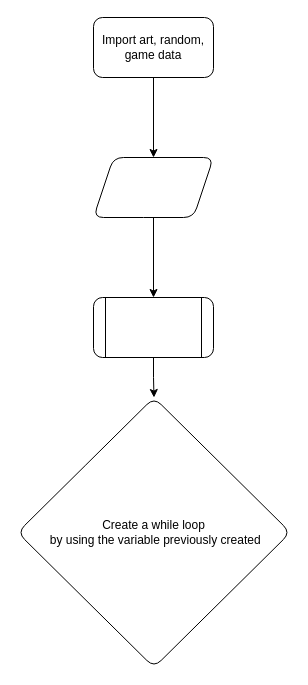
The diagram is 308 pixels wide and 685 high, and some of its shapes have lost their labels. Here are the shapes that lost their labels. From the top down, the centre of each, then its label:
At point (153, 187): "Print art.logo".
At point (153, 327): "Create variable and set it to True".
